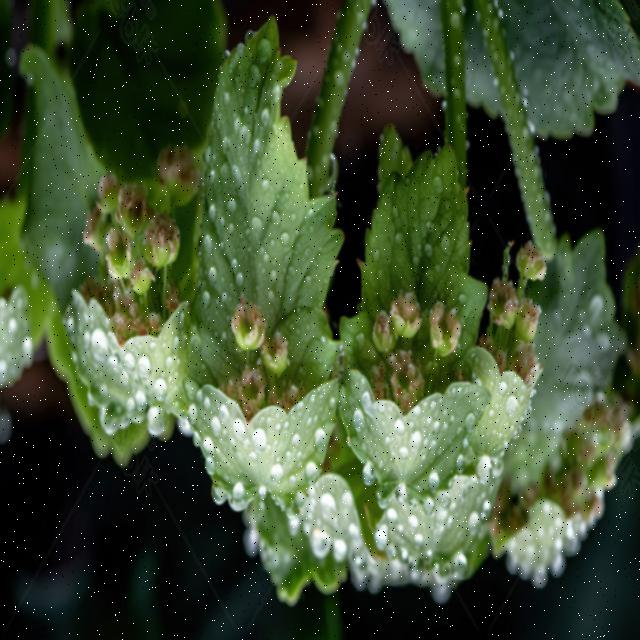raindrop: (87, 316, 111, 376), (142, 398, 171, 442), (316, 484, 344, 529), (249, 418, 276, 464), (226, 474, 250, 523), (309, 522, 333, 570), (434, 476, 456, 524), (472, 447, 494, 494), (248, 426, 272, 469), (308, 421, 332, 462), (356, 458, 381, 497), (348, 399, 369, 442), (206, 474, 227, 516), (302, 452, 323, 492), (392, 473, 412, 514), (150, 365, 170, 405), (232, 409, 251, 446), (136, 347, 154, 385), (120, 341, 138, 373), (210, 405, 224, 441), (270, 456, 286, 486)
